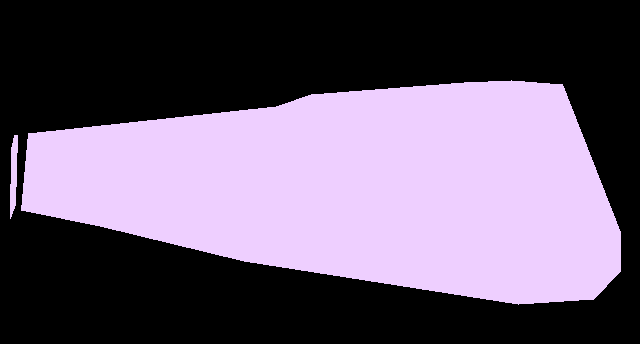Train: (10, 80, 621, 304)
